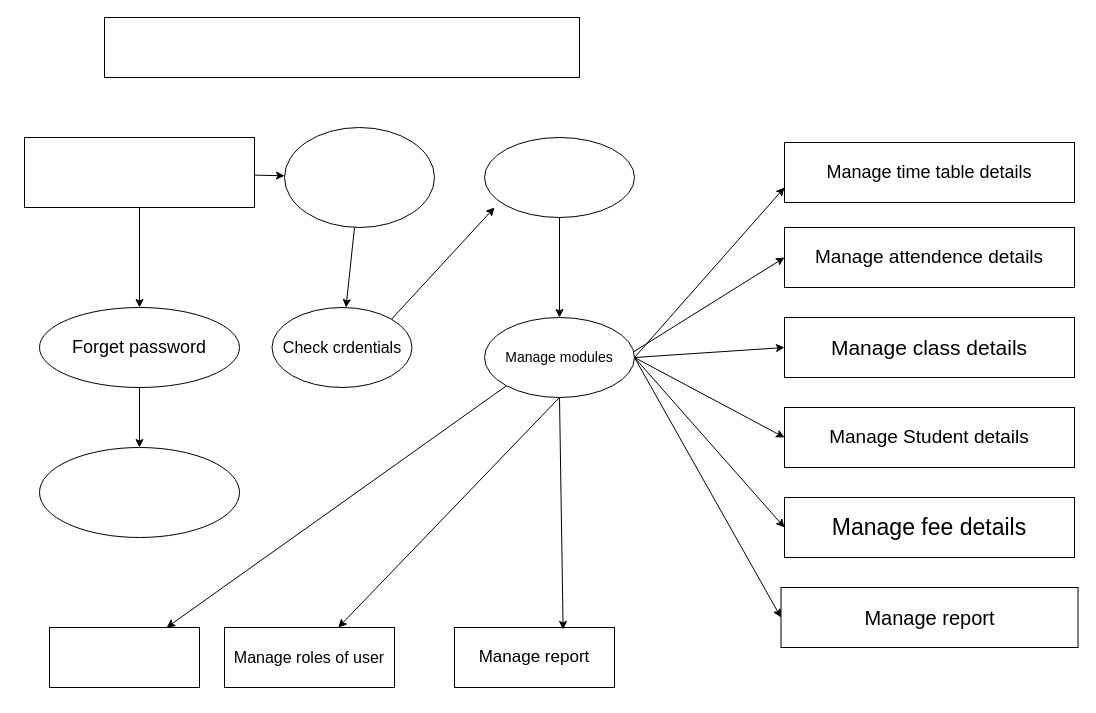
Image size: 1096x713. Some labels were removed from this diagram. The box of each missing label's shape, as (x1, y1, x2, y2) in pixels:
Admin: (24, 136, 254, 208)
Check roles of Access: (484, 136, 634, 218)
Login to system: (284, 126, 434, 228)
Manage system admins: (48, 626, 200, 688)
Send Email To user: (38, 446, 240, 538)
Student Information System: (104, 16, 580, 78)
